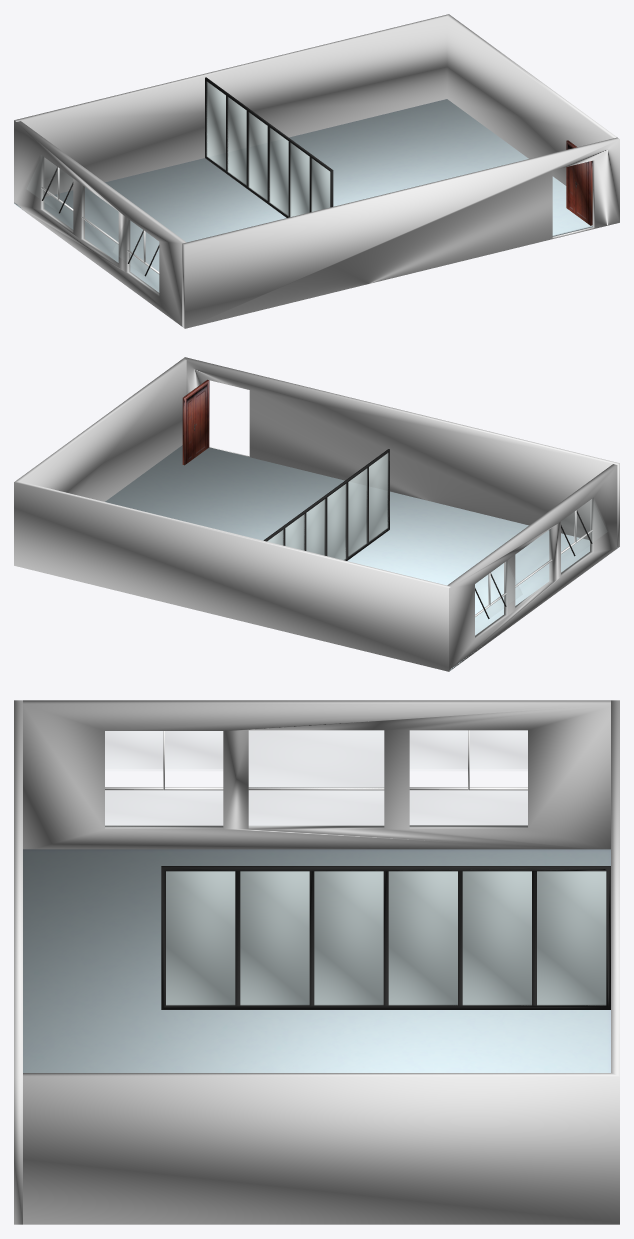
3 renders of one model, top to bottom at view 1: azimuth 30°, elevation 25°; view 2: azimuth 150°, elevation 25°; view 3: azimuth 270°, elevation 25°, orthographic. The views are drawn at different scales.
Parts seen in each view (by area): view 1: Line001, Rectangle003, Rectangle040, roolwindow, Rectangle034, rool, door001, Rectangle033; view 2: Line001, Rectangle003, Rectangle040, roolwindow, Rectangle034, door001, rool, Rectangle033; view 3: Rectangle003, Line001, roolwindow, Rectangle040, Rectangle034, rool, Rectangle033.
Boxes of the visible parts, x1=… form: Line001: x1=14, y1=14, x2=619, y2=328; Rectangle003: x1=14, y1=99, x2=592, y2=326; Rectangle040: x1=14, y1=120, x2=186, y2=326; roolwindow: x1=206, y1=81, x2=330, y2=216; Rectangle034: x1=27, y1=156, x2=159, y2=294; rool: x1=205, y1=77, x2=333, y2=217; door001: x1=566, y1=140, x2=592, y2=225; Rectangle033: x1=41, y1=167, x2=159, y2=274; Line001: x1=14, y1=357, x2=619, y2=671; Rectangle003: x1=105, y1=445, x2=617, y2=671; Rectangle040: x1=447, y1=464, x2=617, y2=671; roolwindow: x1=267, y1=453, x2=388, y2=560; Rectangle034: x1=475, y1=499, x2=607, y2=636; door001: x1=182, y1=379, x2=209, y2=465; rool: x1=263, y1=449, x2=389, y2=560; Rectangle033: x1=475, y1=510, x2=592, y2=616; Rectangle003: x1=23, y1=849, x2=610, y2=1072; Line001: x1=14, y1=700, x2=619, y2=1224; roolwindow: x1=166, y1=871, x2=606, y2=1005; Rectangle040: x1=23, y1=700, x2=610, y2=849; Rectangle034: x1=105, y1=731, x2=527, y2=826; rool: x1=161, y1=866, x2=610, y2=1009; Rectangle033: x1=105, y1=730, x2=527, y2=790.
Bounding box in the file's own units: 122 × 21.65 × 80.41.
9 materials, 2 textured.
